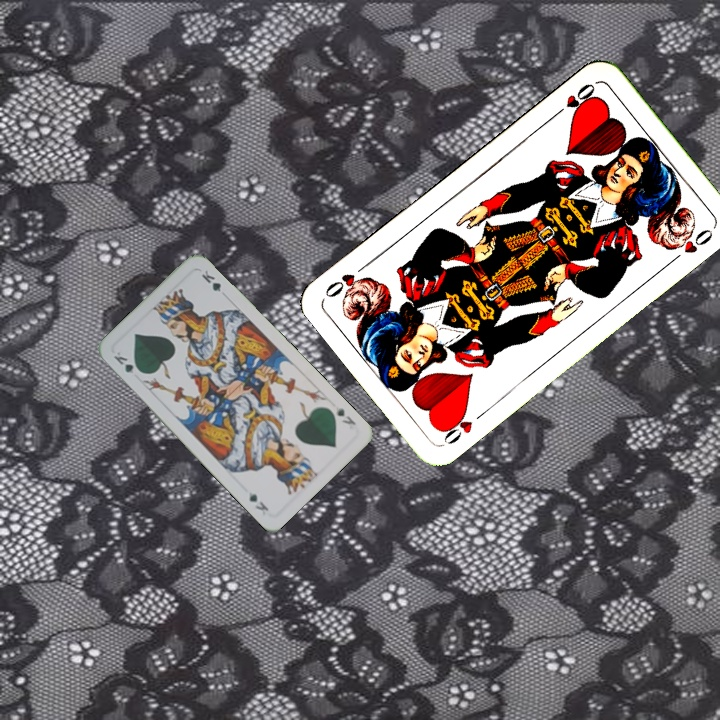GK: (109, 347, 145, 376), (332, 403, 359, 428)
HO: (436, 406, 489, 448), (549, 79, 598, 120)
